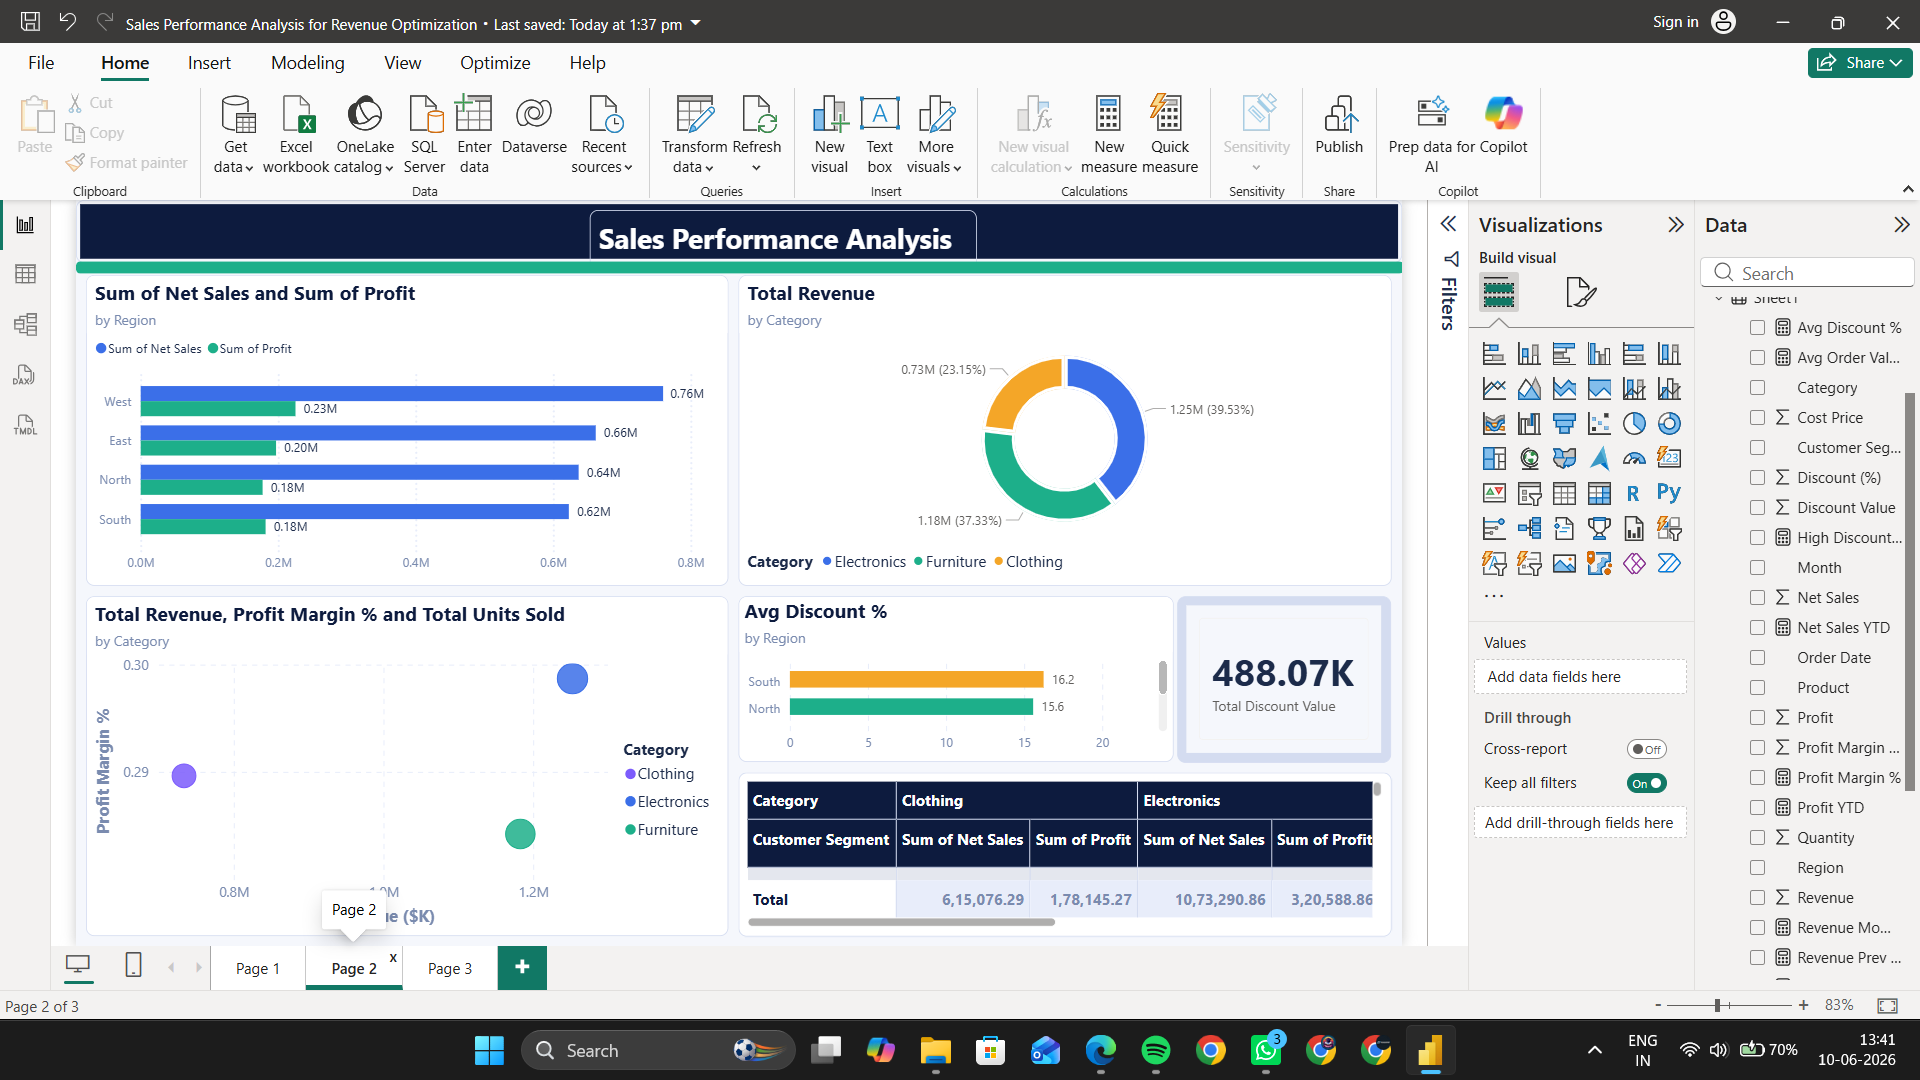

What the dashboard file says about the page in this screenshot:
{"tool":"powerbi","page":{"name":"Page 2","canvas":[1280,720],"ordinal":1},"visuals":[{"type":"clusteredBarChart","fields":{"Category":["Sheet1.Region"],"Y":["Sum(Sheet1.Net Sales)","Sum(Sheet1.Profit)"]},"box":[10,72,620,300],"z":0},{"type":"donutChart","fields":{"Category":["Sheet1.Category"],"Y":["Sheet1.Total Revenue"]},"box":[640,72,630,300],"z":1000},{"type":"scatterChart","fields":{"X":["Sheet1.Total Revenue"],"Y":["Sheet1.Profit Margin %"],"Size":["Sheet1.Total Units Sold"],"Series":["Sheet1.Category"]},"box":[10,382,620,328],"z":2000},{"type":"pivotTable","fields":{"Rows":["Sheet1.Customer Segment"],"Columns":["Sheet1.Category"],"Values":["Sum(Sheet1.Net Sales)","Sum(Sheet1.Profit)"]},"box":[640,552,630,158],"z":3000},{"type":"barChart","fields":{"Category":["Sheet1.Region"],"Y":["Sheet1.Avg Discount %"]},"box":[640,382,420,160],"z":4000},{"type":"cardVisual","fields":{"Data":["Sheet1.Total Discount Value"]},"box":[1062.9,382.4,206.3,160.5],"z":5000},{"type":"group","id":"g1","title":"Group 1","box":[0,0,1281.2,71.5],"z":6000},{"type":"shape","box":[0,0,1280,60.7],"z":9000,"group":"g1"},{"type":"textbox","box":[495.8,10,374,60.7],"z":10000,"group":"g1"},{"type":"shape","box":[0,59.5,1281.2,12.1],"z":11000,"group":"g1"}]}

Visuals, with their boxes on the page's 1280x720 design canvas (x1, y1, x2, y2). These are canvas units, not pixel positions in the 1920x1080 screenshot, which may show the page scaled, cropped or inside an application window:
clusteredBarChart - Sheet1.Region x Sum(Sheet1.Net Sales): pyautogui.locateOnScreen(10, 72, 630, 372)
donutChart - Sheet1.Category x Sheet1.Total Revenue: pyautogui.locateOnScreen(640, 72, 1270, 372)
scatterChart - Sheet1.Total Revenue x Sheet1.Profit Margin %: pyautogui.locateOnScreen(10, 382, 630, 710)
pivotTable - Sheet1.Customer Segment x Sheet1.Category: pyautogui.locateOnScreen(640, 552, 1270, 710)
barChart - Sheet1.Region x Sheet1.Avg Discount %: pyautogui.locateOnScreen(640, 382, 1060, 542)
cardVisual - Sheet1.Total Discount Value: pyautogui.locateOnScreen(1063, 382, 1269, 543)
"Group 1" group: pyautogui.locateOnScreen(0, 0, 1281, 72)
shape: pyautogui.locateOnScreen(0, 0, 1280, 61)
textbox: pyautogui.locateOnScreen(496, 10, 870, 71)
shape: pyautogui.locateOnScreen(0, 60, 1281, 72)
